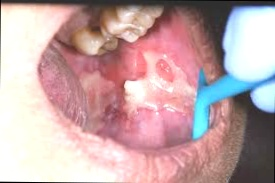Ulcer: (121, 47, 200, 117)
